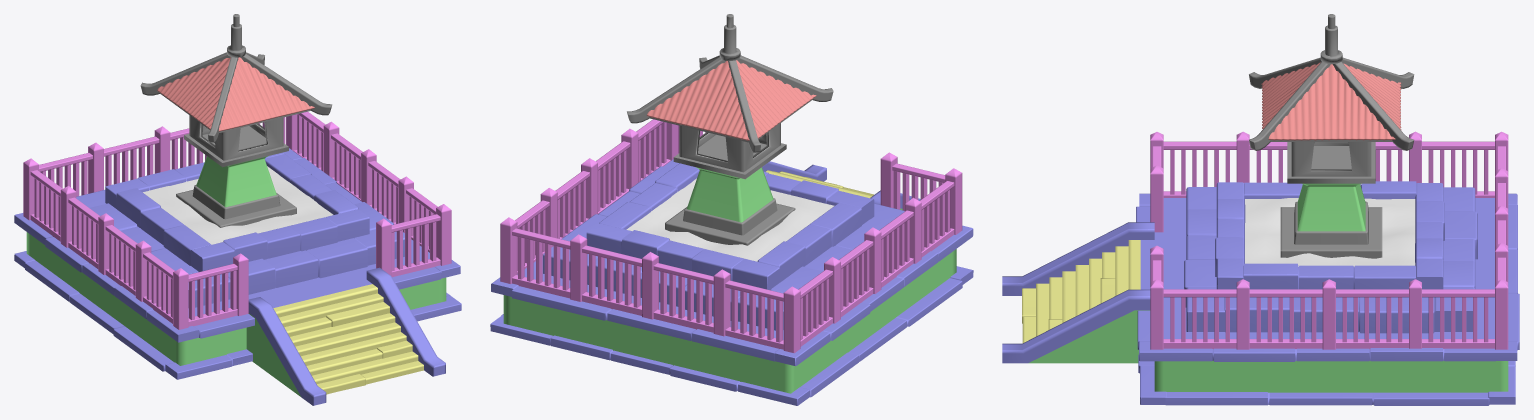
File: SM_ENV_KNVLLG03_AreaE_BuildingA.gltf
3 renders of one model, left to right at view 1: azimuth 30°, elevation 25°; view 2: azimuth 150°, elevation 25°; view 3: azimuth 270°, elevation 25°, orthographic. The views are drawn at different scales.
Parts seen in each view (by area): view 1: SM_ENV_KNVLLG03_AreaE_BuildingA; view 2: SM_ENV_KNVLLG03_AreaE_BuildingA; view 3: SM_ENV_KNVLLG03_AreaE_BuildingA.
Boxes of the visible parts, bbox=[...] form: SM_ENV_KNVLLG03_AreaE_BuildingA: bbox=[14, 14, 461, 405]; SM_ENV_KNVLLG03_AreaE_BuildingA: bbox=[490, 14, 973, 405]; SM_ENV_KNVLLG03_AreaE_BuildingA: bbox=[1002, 14, 1519, 405].
Bounding box in the file's own units: 8.68 × 7.76 × 11.71.
